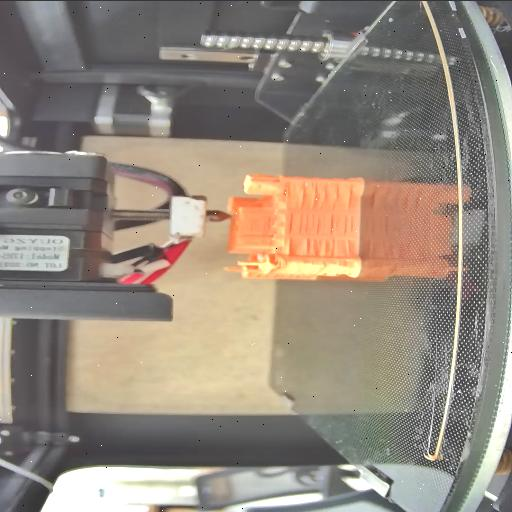cracks: (300, 181, 350, 211), (302, 238, 350, 256), (292, 212, 322, 236), (328, 214, 352, 236), (262, 216, 272, 234), (287, 236, 295, 255), (279, 186, 288, 200)
